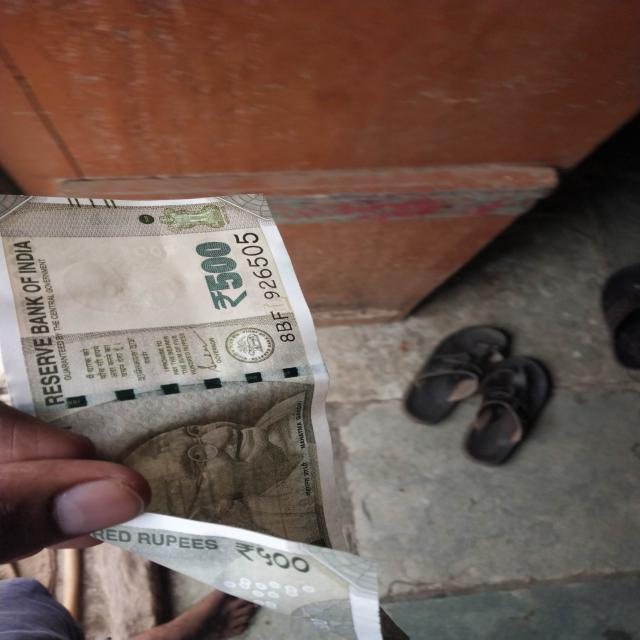500rs: (0, 196, 403, 636)
